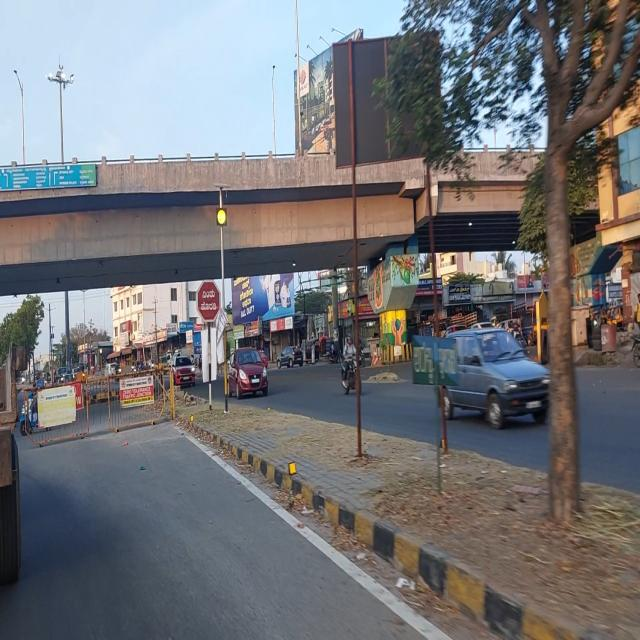bien_cam: (196, 278, 220, 326)
